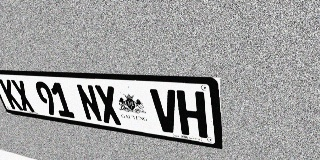1: (48, 82, 75, 118)
9: (33, 81, 60, 116)
H: (176, 90, 208, 138)
K: (0, 79, 23, 111)
N: (75, 84, 104, 123)
V: (150, 88, 181, 134)
X: (94, 85, 123, 126), (10, 80, 36, 112)
